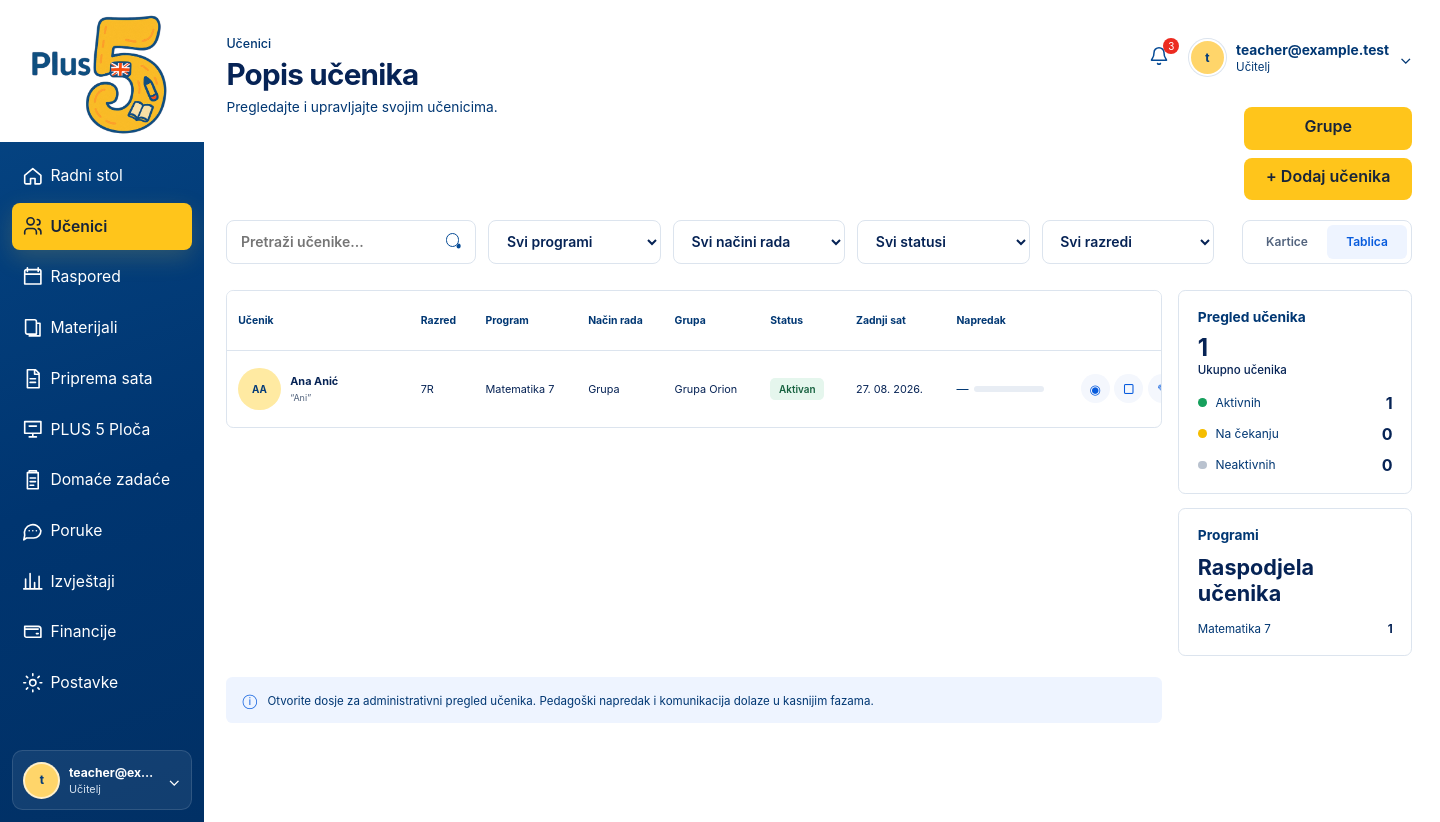
Test case: student list › keeps filters in route state and requests the selected status
Expected: the table is shown, left=227, top=291, right=1161, bottom=427
Select "Na čekanju" in the 3rd dropdown named "Status": (943, 242) left=857, top=220, right=1030, bottom=264
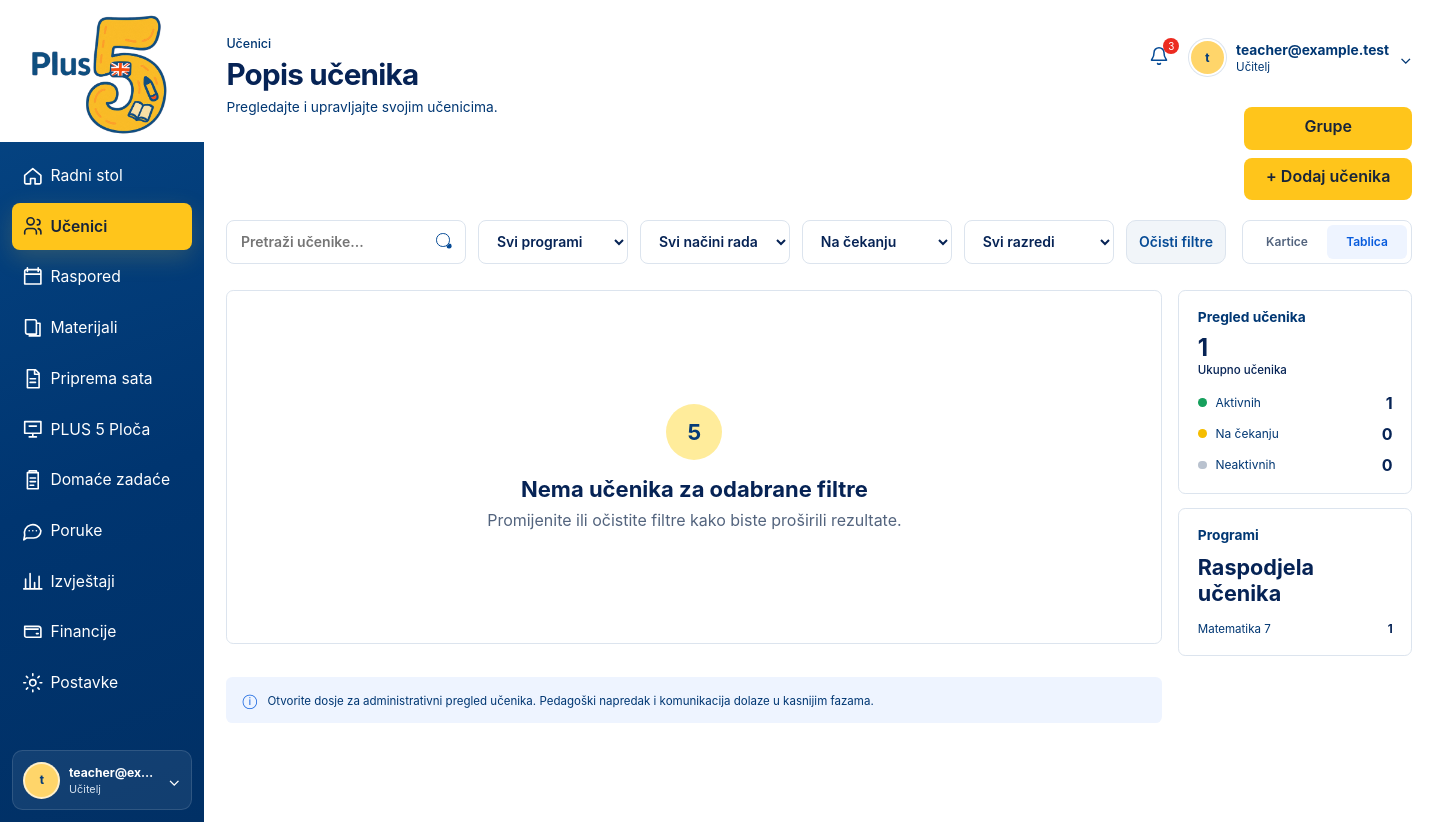
Result: the heading "Nema učenika za odabrane filtre" is shown at left=521, top=476, right=868, bottom=502
